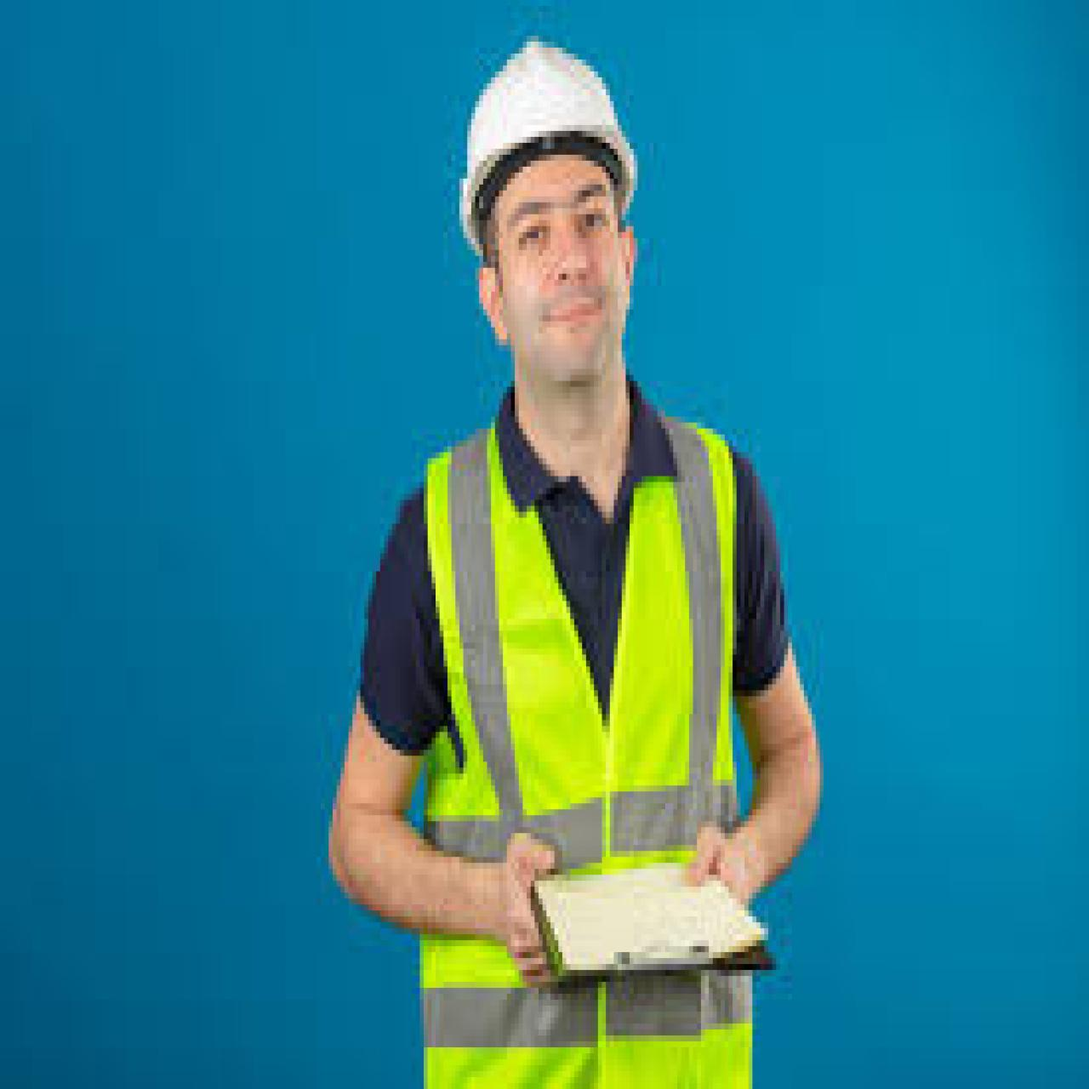Person: (321, 24, 834, 1089)
Safety_Vest: (361, 380, 783, 1089)
